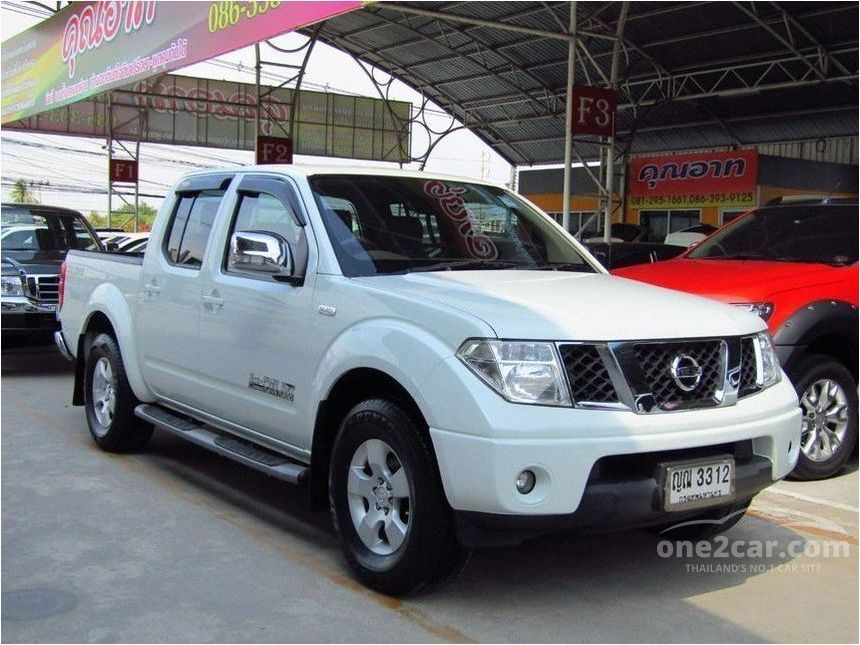pickup: (54, 164, 805, 601)
